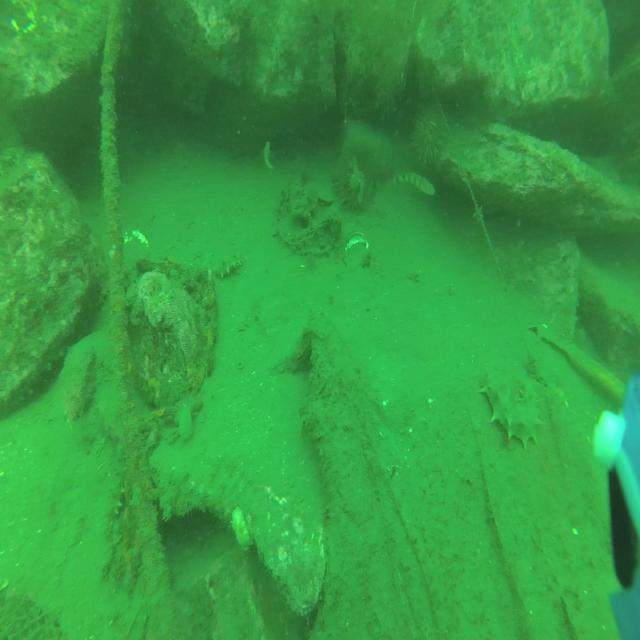echinus: (330, 144, 372, 216), (409, 100, 451, 169)
holothurian: (476, 367, 542, 455), (104, 444, 127, 527), (213, 250, 244, 284)
